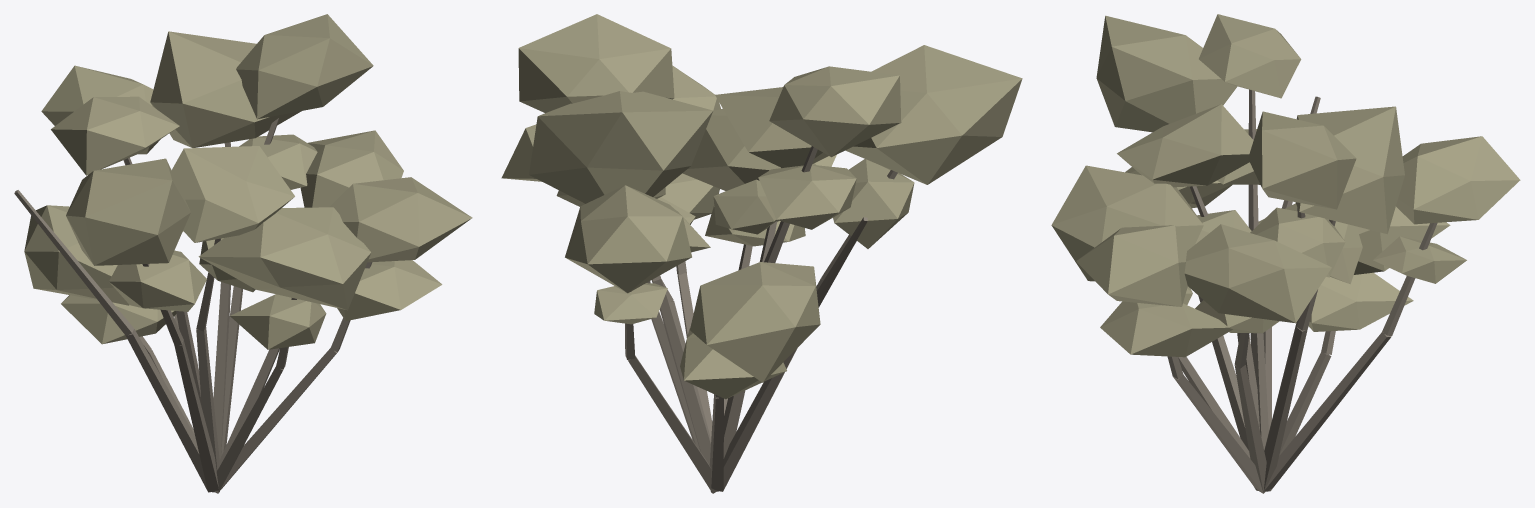
File: scrub_b.glb
3 renders of one model, left to right at view 1: azimuth 30°, elevation 25°; view 2: azimuth 150°, elevation 25°; view 3: azimuth 270°, elevation 25°, orthographic. The views are drawn at different scales.
Parts seen in each view (by area): view 1: Scrub; view 2: Scrub; view 3: Scrub.
Boxes of the visible parts, bbox=[...] form: Scrub: bbox=[14, 14, 472, 493]; Scrub: bbox=[501, 14, 1022, 493]; Scrub: bbox=[1051, 14, 1520, 493].
Size of the model in its own units: 0.9714 by 0.9917 by 1.01.
